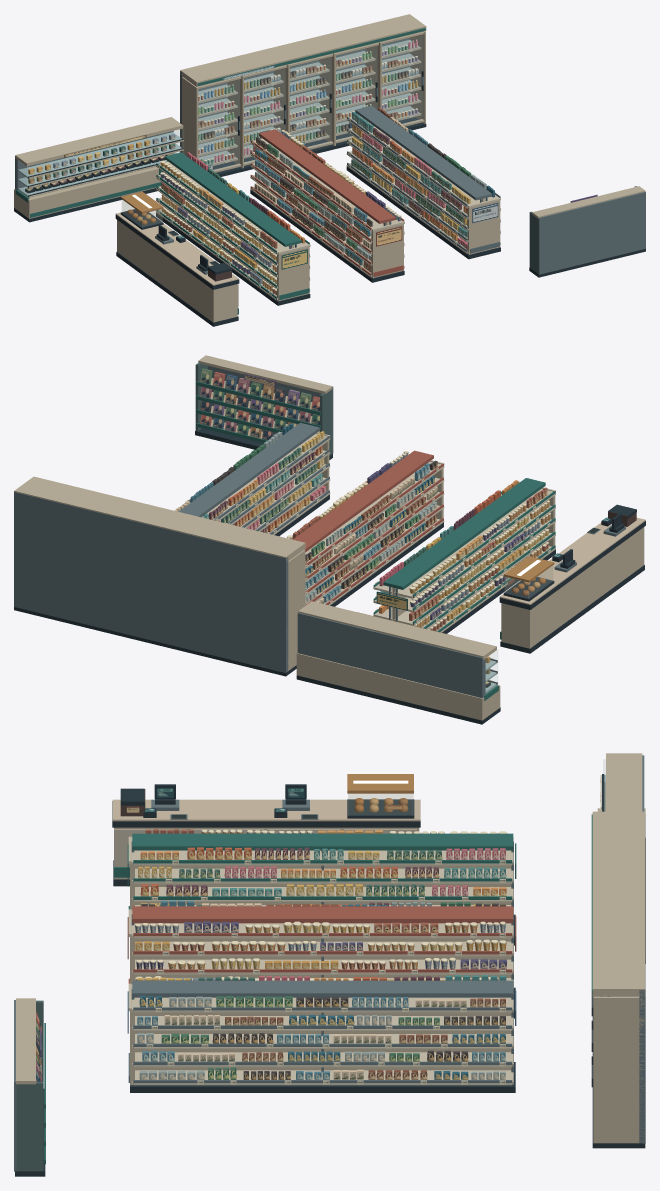
File: konbini-interior.glb
The picture shows the model from 3 angles, top to bottom: view 1: azimuth 30°, elevation 25°; view 2: azimuth 150°, elevation 25°; view 3: azimuth 270°, elevation 25°; orthographic projection. The views are drawn at different scales.
Visible parts, largest first — view 1: back-drink-coolers-paint, back-drink-coolers-glass, back-bento-case-paint, checkout-counter-paint, gondola-a-paint, gondola-c-paint, gondola-b-paint, magazine-rack-paint, back-drink-coolers-labels, gondola-b-labels, gondola-c-labels, gondola-a-labels (+2 smaller); view 2: back-drink-coolers-paint, back-bento-case-paint, checkout-counter-paint, gondola-a-paint, gondola-b-paint, gondola-a-labels, gondola-b-labels, gondola-c-paint, magazine-rack-paint, gondola-c-labels, magazine-rack-labels, checkout-counter-glass; view 3: gondola-c-paint, gondola-b-paint, gondola-a-paint, back-drink-coolers-paint, gondola-c-labels, checkout-counter-paint, gondola-a-labels, gondola-b-labels, magazine-rack-paint, back-bento-case-paint, checkout-counter-glass, checkout-counter-labels.
Part boxes in pixels (x1,y1,x2,y2): back-drink-coolers-paint: (180,14,426,176); back-drink-coolers-glass: (199,35,422,170); back-bento-case-paint: (14,117,183,222); checkout-counter-paint: (115,191,239,326); gondola-a-paint: (156,152,310,305); gondola-c-paint: (346,106,500,259); gondola-b-paint: (250,129,404,282); magazine-rack-paint: (529,186,645,277); back-drink-coolers-labels: (198,39,418,170); gondola-b-labels: (252,130,402,272); gondola-c-labels: (348,107,498,249); gondola-a-labels: (157,152,307,295); back-drink-coolers-paint: (14,476,305,676); back-bento-case-paint: (296,601,500,724); checkout-counter-paint: (499,504,645,653); gondola-a-paint: (373,478,555,633); gondola-b-paint: (292,450,444,606); gondola-a-labels: (375,480,550,631); gondola-b-labels: (286,451,438,604); gondola-c-paint: (179,423,330,536); magazine-rack-paint: (195,355,333,459); gondola-c-labels: (174,423,326,534); magazine-rack-labels: (200,368,319,440); checkout-counter-glass: (505,566,552,598); gondola-c-paint: (128,980,515,1092); gondola-b-paint: (128,906,515,1018); gondola-a-paint: (128,833,515,945); back-drink-coolers-paint: (591,811,645,1148); gondola-c-labels: (127,975,516,1084); checkout-counter-paint: (112,774,420,886); gondola-a-labels: (127,829,516,906); gondola-b-labels: (127,900,516,980); magazine-rack-paint: (14,998,45,1176); back-bento-case-paint: (597,753,645,963); checkout-counter-glass: (348,794,413,814); checkout-counter-labels: (126,787,402,812).
Size of the model in its own units: 11.23 by 2.5 by 8.99.
Materials: 4 (1 with a texture image).
